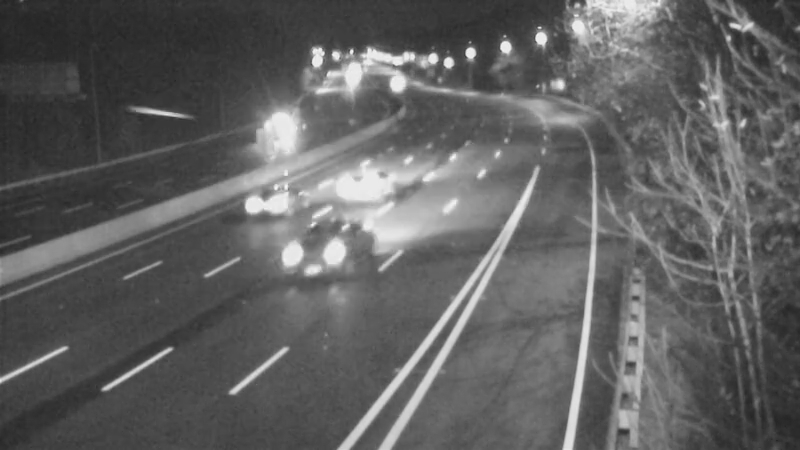vehicle: (321, 145, 401, 225), (222, 164, 302, 244), (289, 213, 369, 293), (373, 60, 423, 110), (252, 103, 302, 153)
